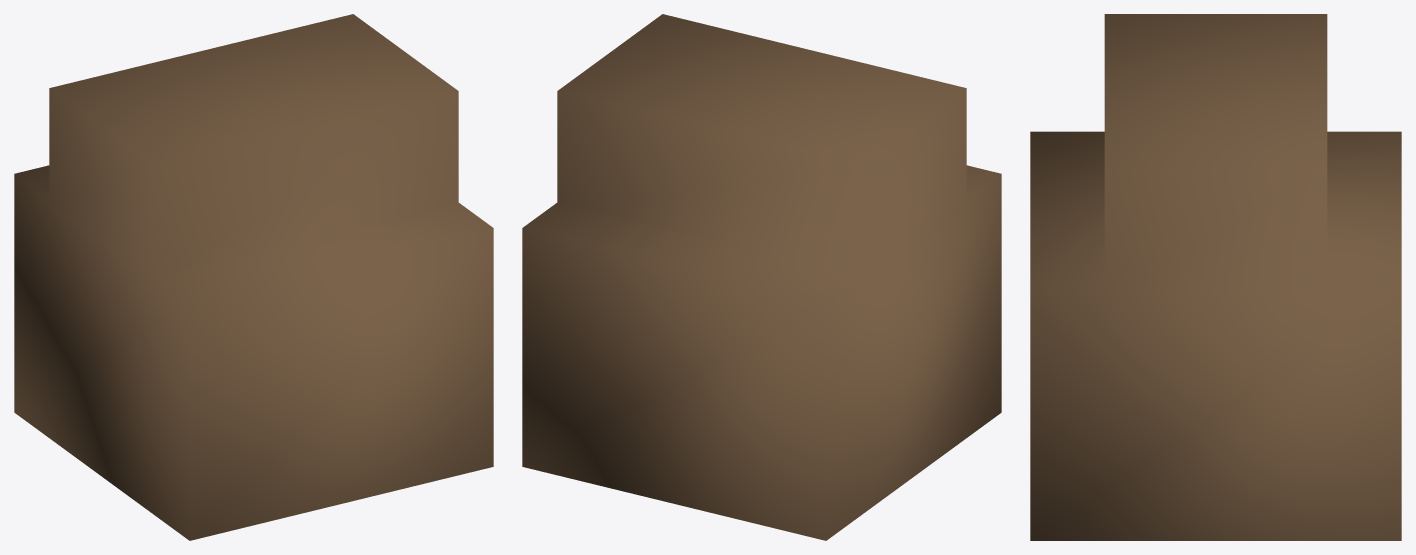
File: woodcutter.obj
3 renders of one model, left to right at view 1: azimuth 30°, elevation 25°; view 2: azimuth 150°, elevation 25°; view 3: azimuth 270°, elevation 25°, orthographic. The views are drawn at different scales.
Parts seen in each view (by area): view 1: building; view 2: building; view 3: building.
Part boxes in pixels (<box>): building: <box>14,14,493,540</box>; building: <box>522,14,1001,540</box>; building: <box>1030,14,1401,540</box>.
Size of the model in its own units: 2 by 2.2 by 2.
